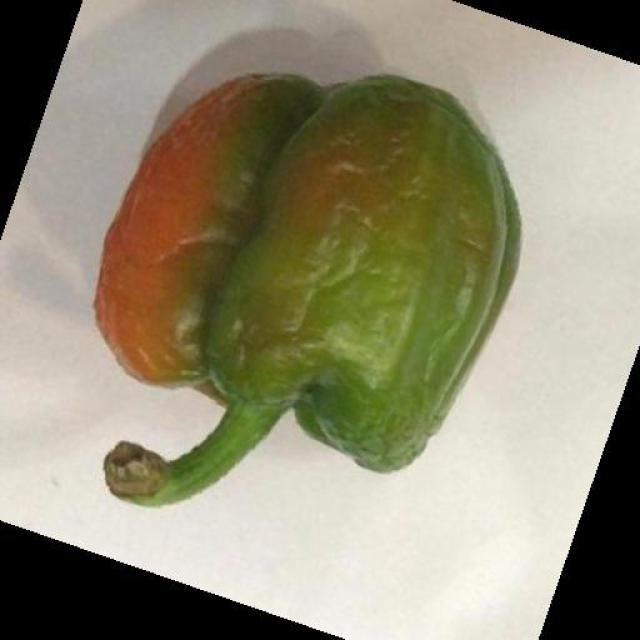Stale_Capsicum: (103, 61, 485, 466)
